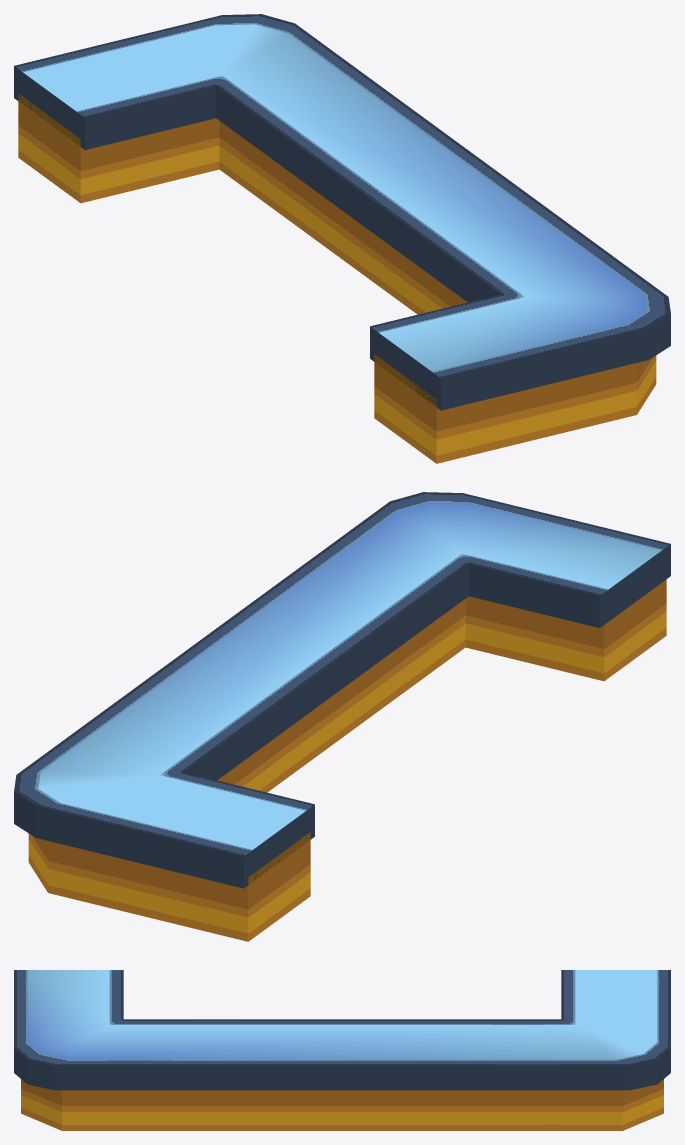
The model's file is hgss-passage-kit-comptoir-gauche.glb.
3 views of the same model, one above another, from view 1: azimuth 30°, elevation 25°; view 2: azimuth 150°, elevation 25°; view 3: azimuth 270°, elevation 25° (orthographic). The views are drawn at different scales.
Size of the model in its own units: 2.06 by 0.6875 by 6.
2 materials, 2 textured.
